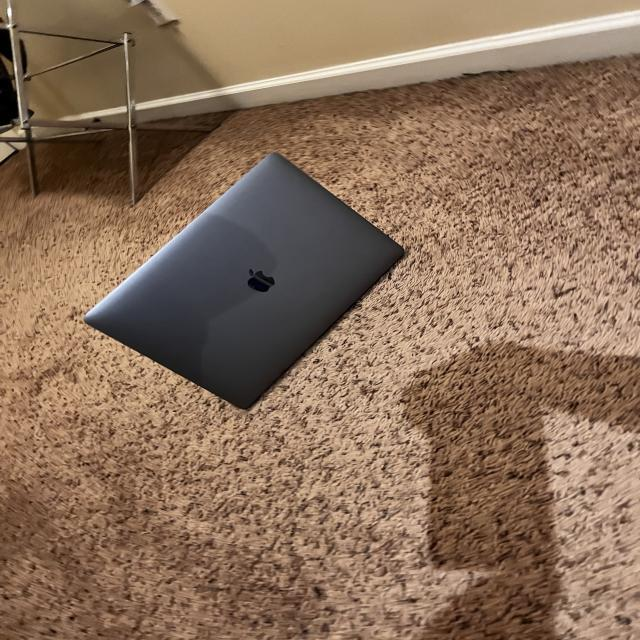laptop: (82, 150, 405, 411)
